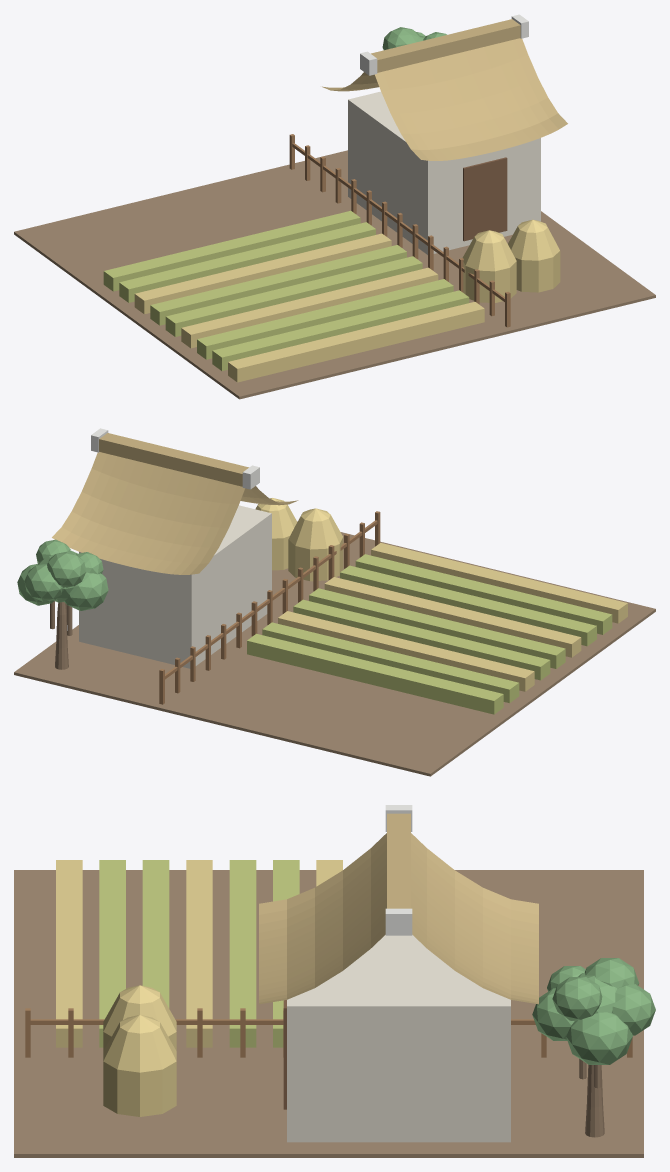
File: farm.fbx
3 renders of one model, top to bottom at view 1: azimuth 30°, elevation 25°; view 2: azimuth 150°, elevation 25°; view 3: azimuth 270°, elevation 25°, orthographic. The views are drawn at different scales.
Parts seen in each view (by area): view 1: farm; view 2: farm; view 3: farm.
Boxes of the visible parts, x1,y1,x2,y2 form: farm: [14, 14, 655, 399]; farm: [14, 428, 655, 776]; farm: [14, 805, 655, 1157].
Size of the model in its own units: 980 by 391 by 917.
